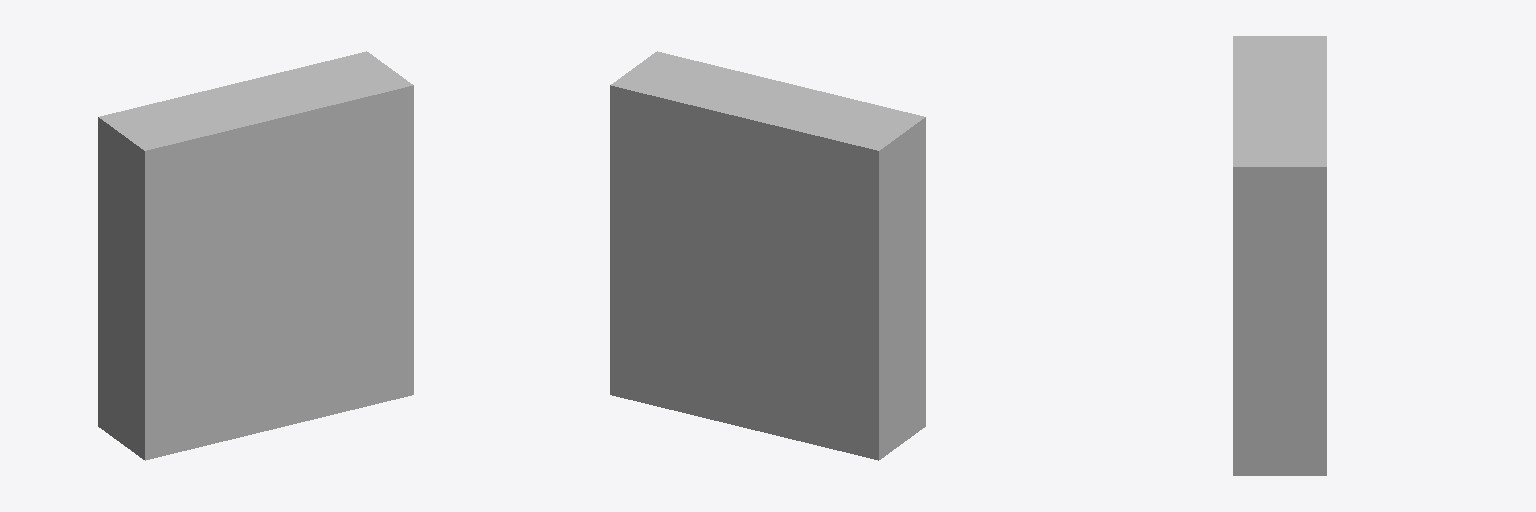
Rendered from zom_dah_vault.obj.
The picture shows the model from 3 angles: view 1: azimuth 30°, elevation 25°; view 2: azimuth 150°, elevation 25°; view 3: azimuth 270°, elevation 25°; orthographic projection.
Parts seen in each view (by area): view 1: co_culling; view 2: co_culling; view 3: co_culling.
Boxes of the visible parts, box(x1,y1,x2,y2) form: co_culling: box(98, 51, 413, 460); co_culling: box(610, 51, 925, 460); co_culling: box(1233, 36, 1326, 475).
Bounding box in the file's own units: 4000 × 4400 × 1200.